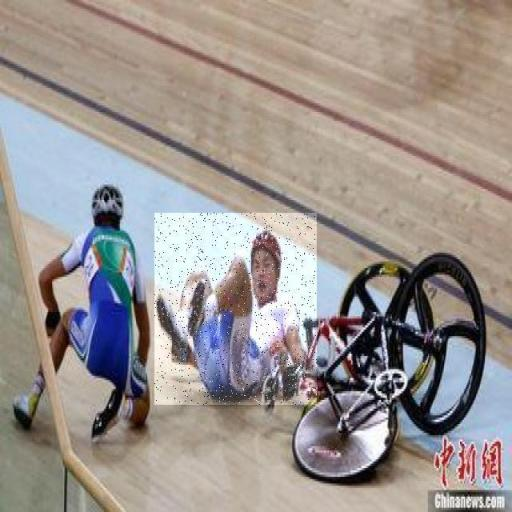Fall: (154, 213, 317, 405)
